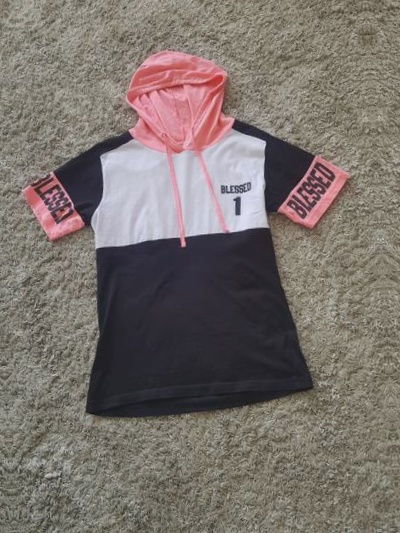Hoodie: (23, 40, 377, 432), (383, 16, 400, 409)
